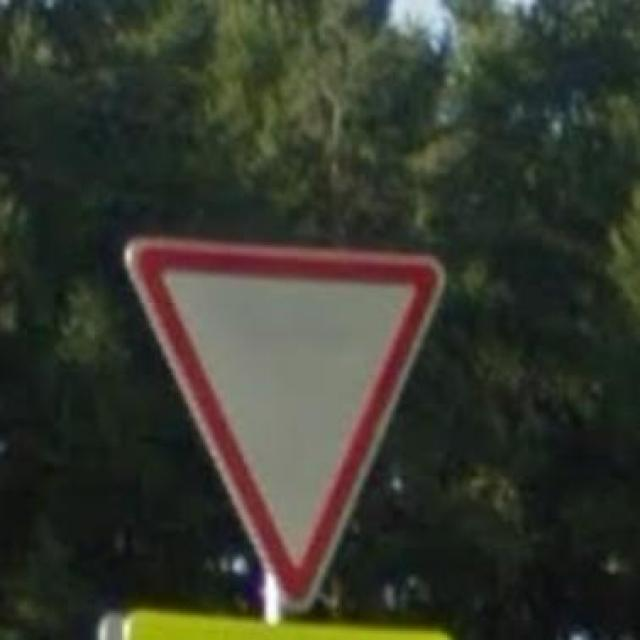Ustap pierwszenstwa: (100, 229, 455, 618)
